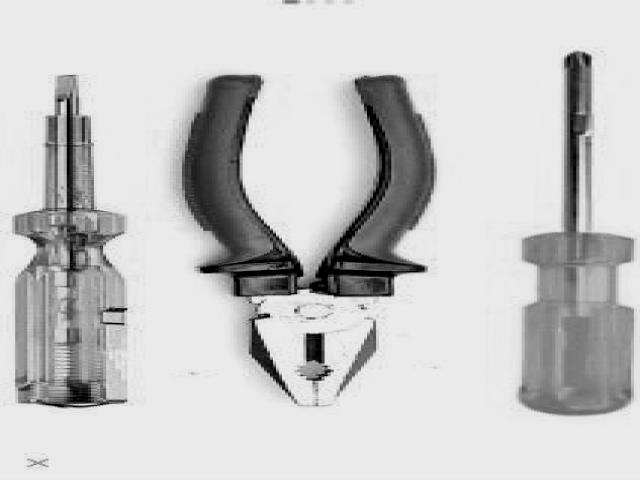Pliers: (185, 76, 434, 407)
Screwdriver: (520, 53, 633, 415), (15, 75, 126, 408)
